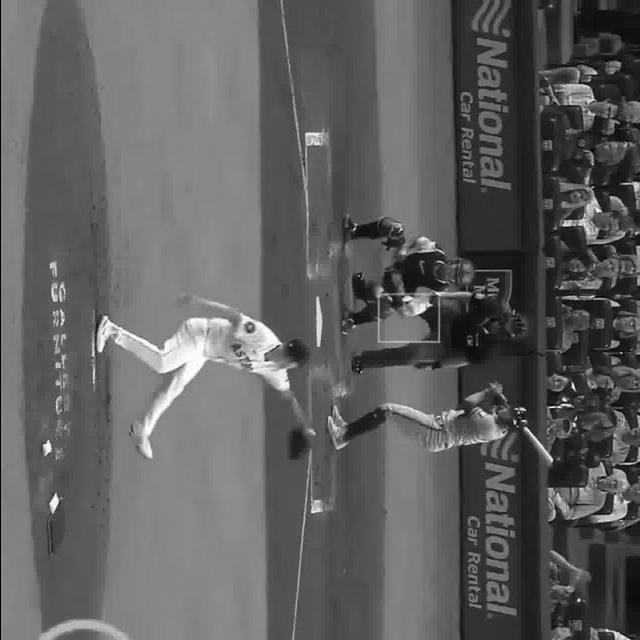base: (310, 295, 324, 349)
baseball_glove: (287, 426, 311, 462), (382, 266, 406, 300)
bat: (485, 383, 556, 471)
shoe: (128, 426, 154, 460), (92, 315, 106, 353), (338, 312, 356, 338), (328, 409, 346, 433), (328, 422, 343, 449), (339, 214, 355, 238)
